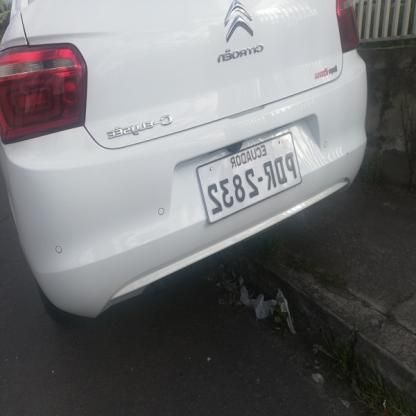Placa: (193, 128, 297, 231)
